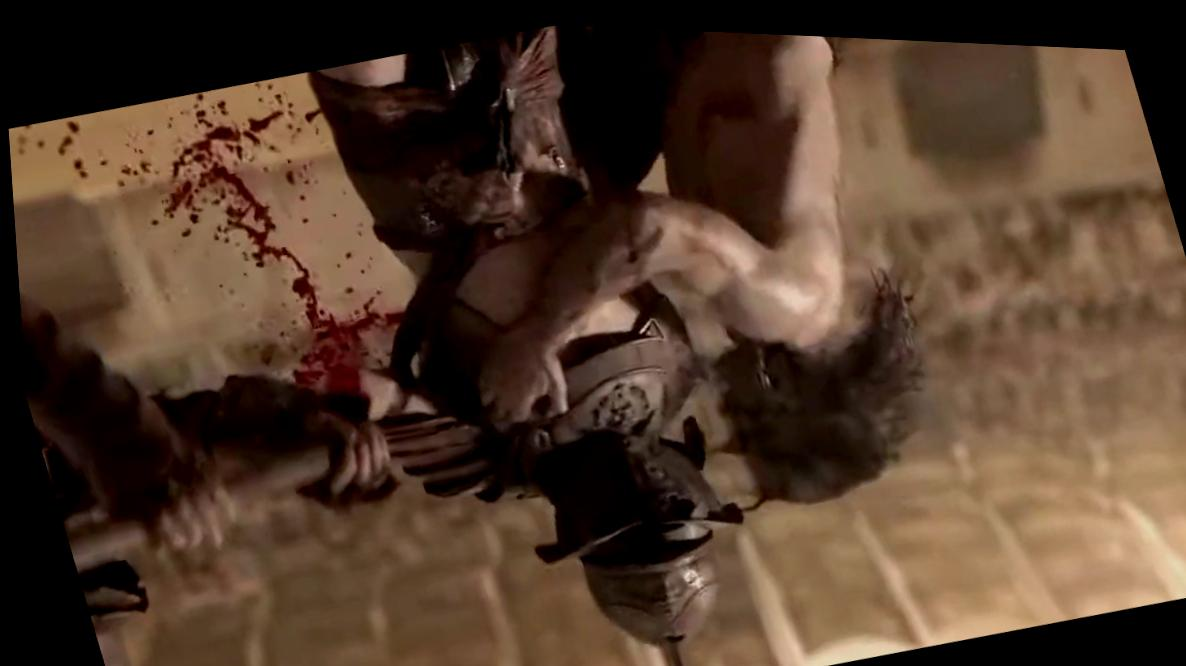Fire: (7, 70, 392, 387)
